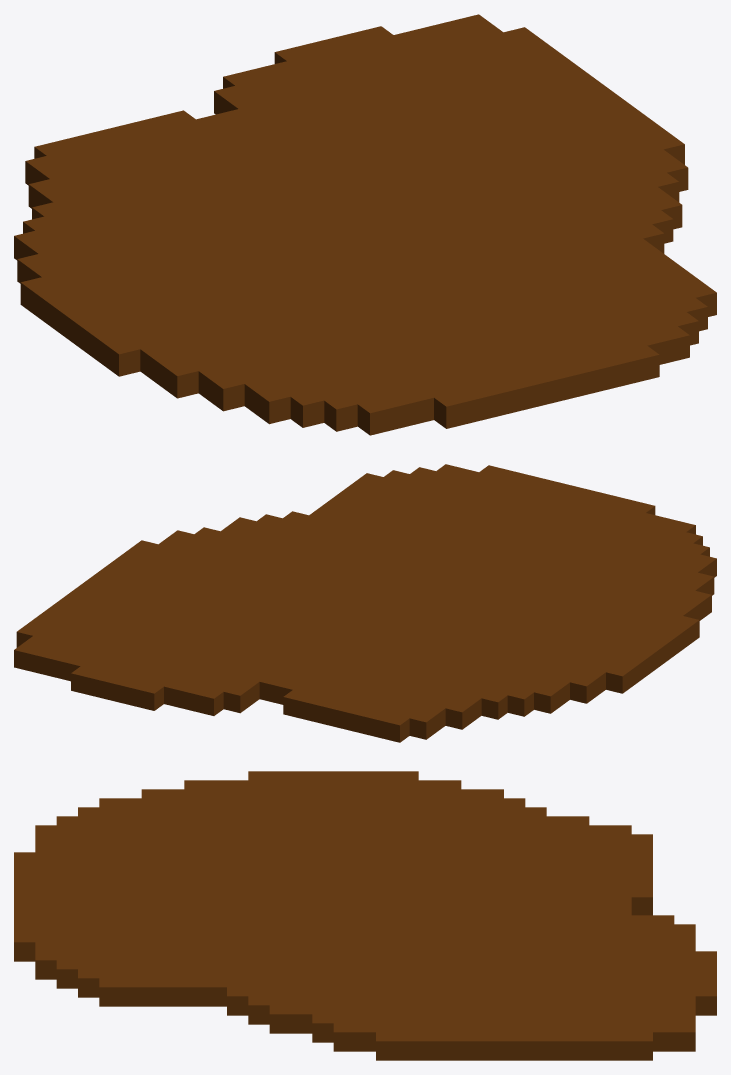
The model's file is Dirt Patch.obj.
The picture shows the model from 3 angles, top to bottom: view 1: azimuth 30°, elevation 25°; view 2: azimuth 150°, elevation 25°; view 3: azimuth 270°, elevation 25°; orthographic projection. The views are drawn at different scales.
Visible parts, largest first — view 1: Dirt Patch; view 2: Dirt Patch; view 3: Dirt Patch.
Part boxes in pixels (left/top/right/bottom): Dirt Patch: left=14, top=14, right=716, bottom=435; Dirt Patch: left=14, top=464, right=716, bottom=742; Dirt Patch: left=14, top=771, right=716, bottom=1060.
Bounding box in the file's own units: 30 × 1 × 33.
